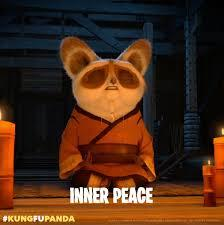KungfuPanda: (57, 104, 183, 191)
